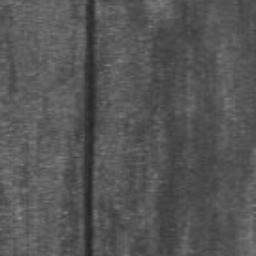Scratches: (84, 0, 97, 256)
